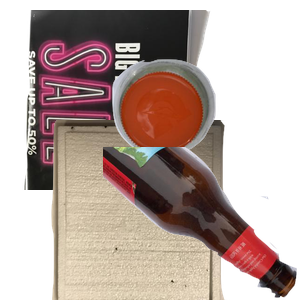glass: (103, 147, 300, 300)
paper: (22, 10, 225, 190)
plastic: (110, 57, 300, 205)
trash: (49, 120, 269, 300)
